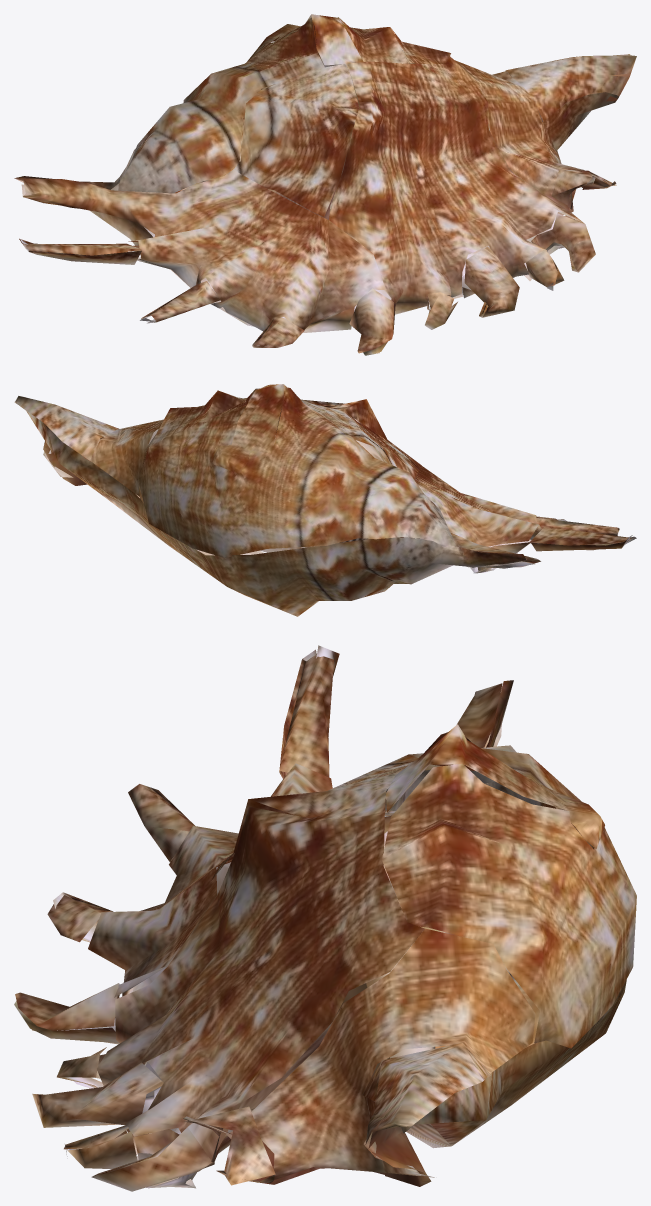
The model's file is lambis_shell.glb.
3 views of the same model, one above another, from view 1: azimuth 30°, elevation 25°; view 2: azimuth 150°, elevation 25°; view 3: azimuth 270°, elevation 25° (orthographic). The views are drawn at different scales.
Visible parts, largest first — view 1: lambis_shell; view 2: lambis_shell; view 3: lambis_shell.
Boxes of the visible parts, <box> form: lambis_shell: <box>14,14,636,355</box>; lambis_shell: <box>14,384,636,616</box>; lambis_shell: <box>14,645,636,1191</box>.
Size of the model in its own units: 0.1387 by 0.0471 by 0.0737.
1 material, 1 textured.
